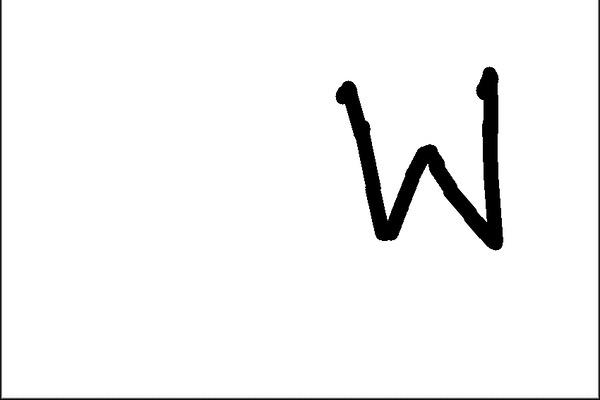w: (308, 48, 520, 262)
